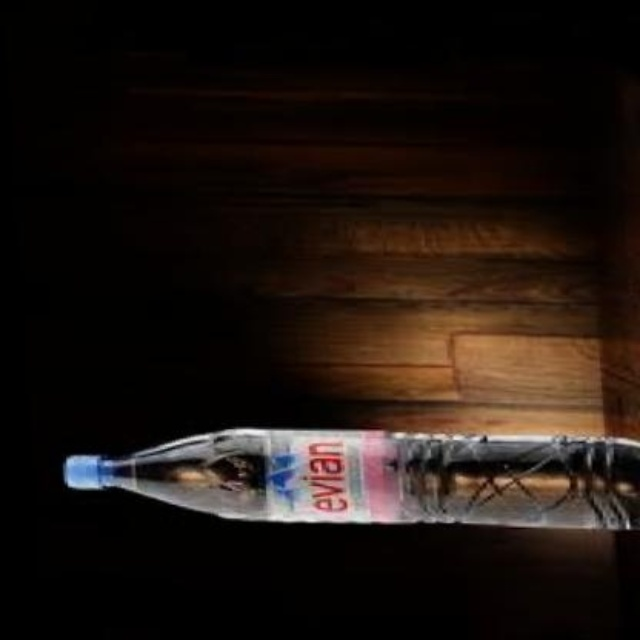trash: (65, 428, 638, 529)
